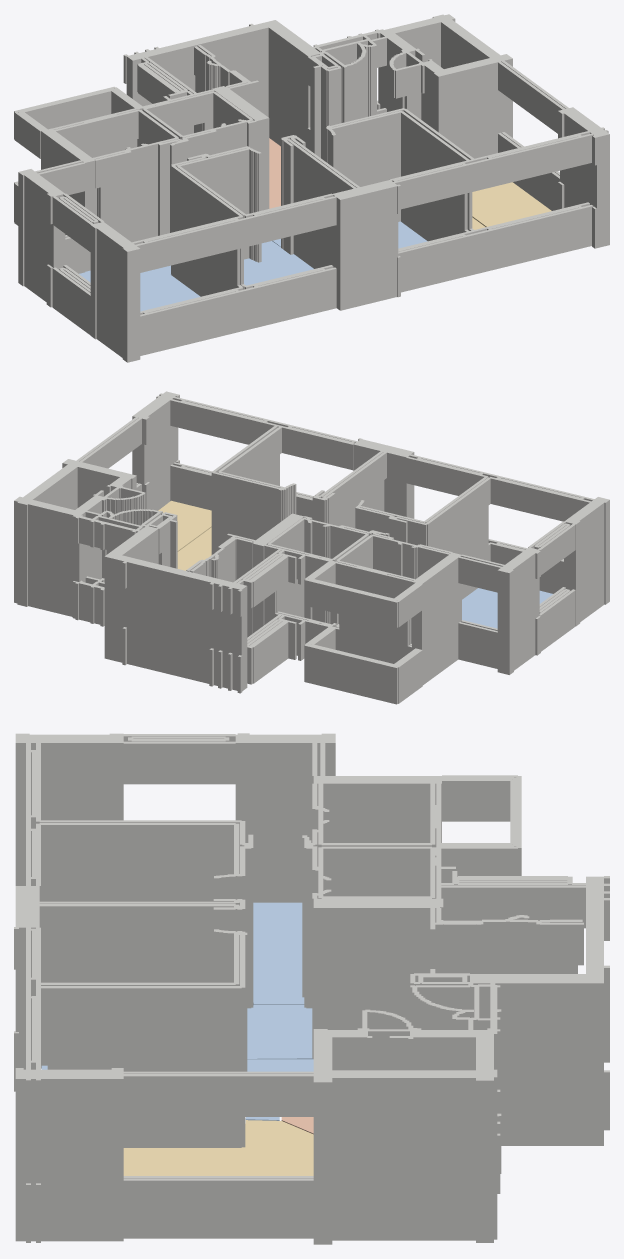
The picture shows the model from 3 angles, top to bottom: view 1: azimuth 30°, elevation 25°; view 2: azimuth 150°, elevation 25°; view 3: azimuth 270°, elevation 25°; orthographic projection. The views are drawn at different scales.
Visible parts, largest first — view 1: walls, room:living:6, room:bedroom:8, room:bedroom:7, room:kitchen:1, room:bedroom:4; view 2: walls, room:living:6, room:bedroom:8, room:living:5; view 3: walls, room:living:5, room:bedroom:8, room:bedroom:7, room:bedroom:4.
Boxes of the visible parts, x1,y1,x2,y2 form: walls: [14, 14, 609, 362]; room:living:6: [472, 182, 551, 226]; room:bedroom:8: [79, 265, 200, 311]; room:bedroom:7: [244, 241, 313, 285]; room:kitchen:1: [269, 138, 280, 208]; room:bedroom:4: [272, 221, 427, 248]; walls: [14, 391, 609, 704]; room:living:6: [158, 500, 211, 551]; room:bedroom:8: [462, 588, 552, 628]; room:living:5: [177, 527, 211, 570]; walls: [14, 733, 609, 1244]; room:living:5: [123, 1120, 313, 1175]; room:bedroom:8: [253, 902, 304, 1004]; room:bedroom:7: [247, 1005, 312, 1059]; room:bedroom:4: [41, 1059, 313, 1120].
Size of the model in its own units: 12.9 by 2.8 by 9.31.
